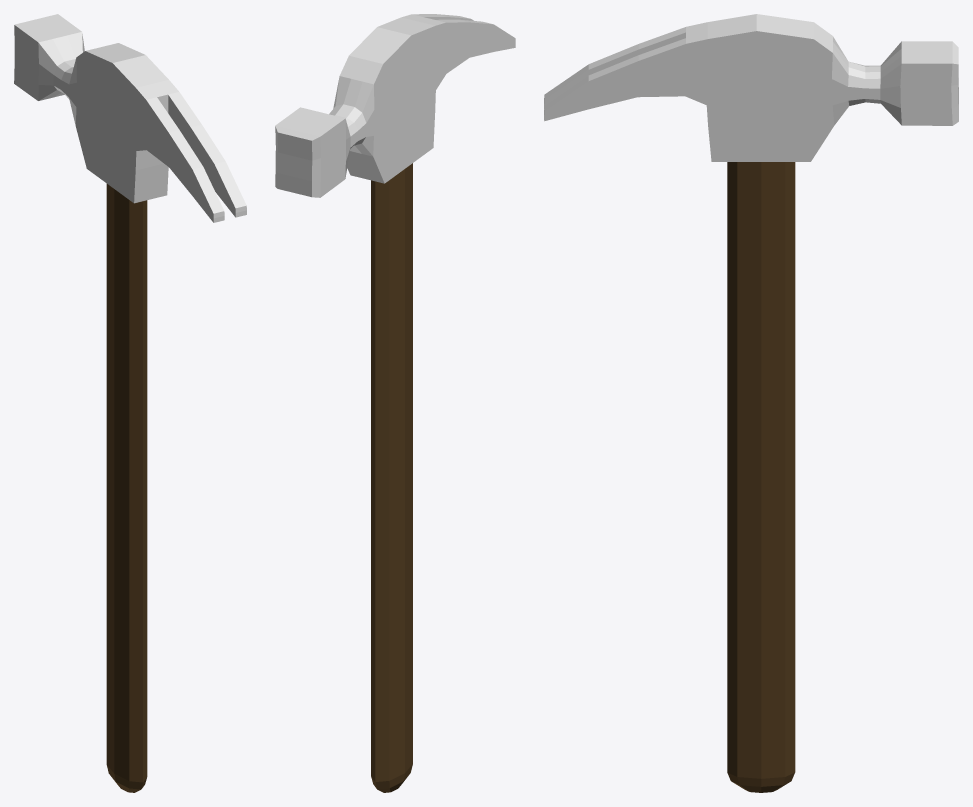
Rendered from hammer-simple.glb.
3 renders of one model, left to right at view 1: azimuth 30°, elevation 25°; view 2: azimuth 150°, elevation 25°; view 3: azimuth 270°, elevation 25°, orthographic. The views are drawn at different scales.
Visible parts, largest first — view 1: hammer_simple; view 2: hammer_simple; view 3: hammer_simple.
Boxes of the visible parts, box(x1,y1,x2,y2) form: hammer_simple: box(14, 14, 246, 792); hammer_simple: box(275, 14, 515, 792); hammer_simple: box(544, 14, 958, 792).
Size of the model in its own units: 0.8388 by 13.36 by 6.54.
